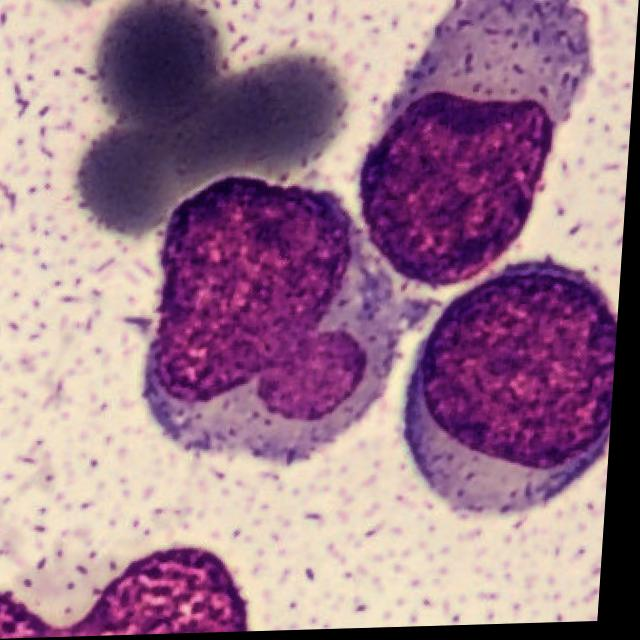Mieloblasto: (148, 176, 402, 464), (362, 0, 588, 288), (411, 263, 623, 519)
